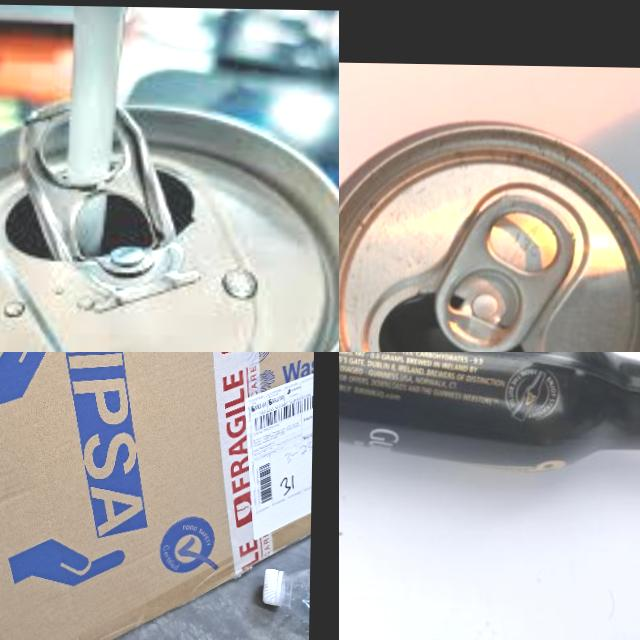aba de lata: (2, 92, 180, 258), (432, 192, 579, 352)
garrafa de vidro: (339, 352, 640, 472)
garrafa plástica: (279, 568, 309, 628)
lata: (0, 102, 339, 352), (339, 116, 640, 352)
papelão: (0, 352, 318, 640)
tampa plástica: (262, 568, 281, 606)
